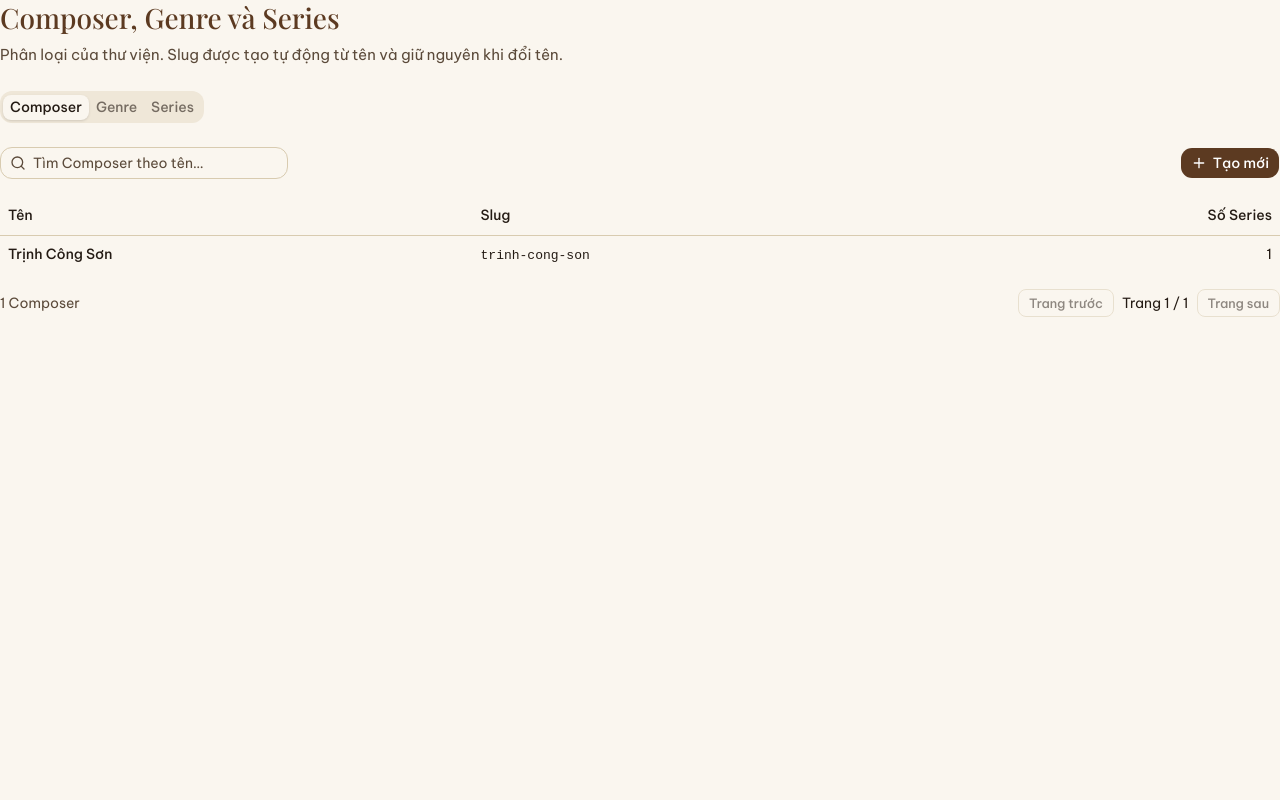
Trang /taxonomy — tab Composer › sửa: PATCH với tên mới
The image size is (1280, 800).
Click the row named "Sửa Composer Trịnh Công Sơn": [60, 254] box [0,235,1279,273]
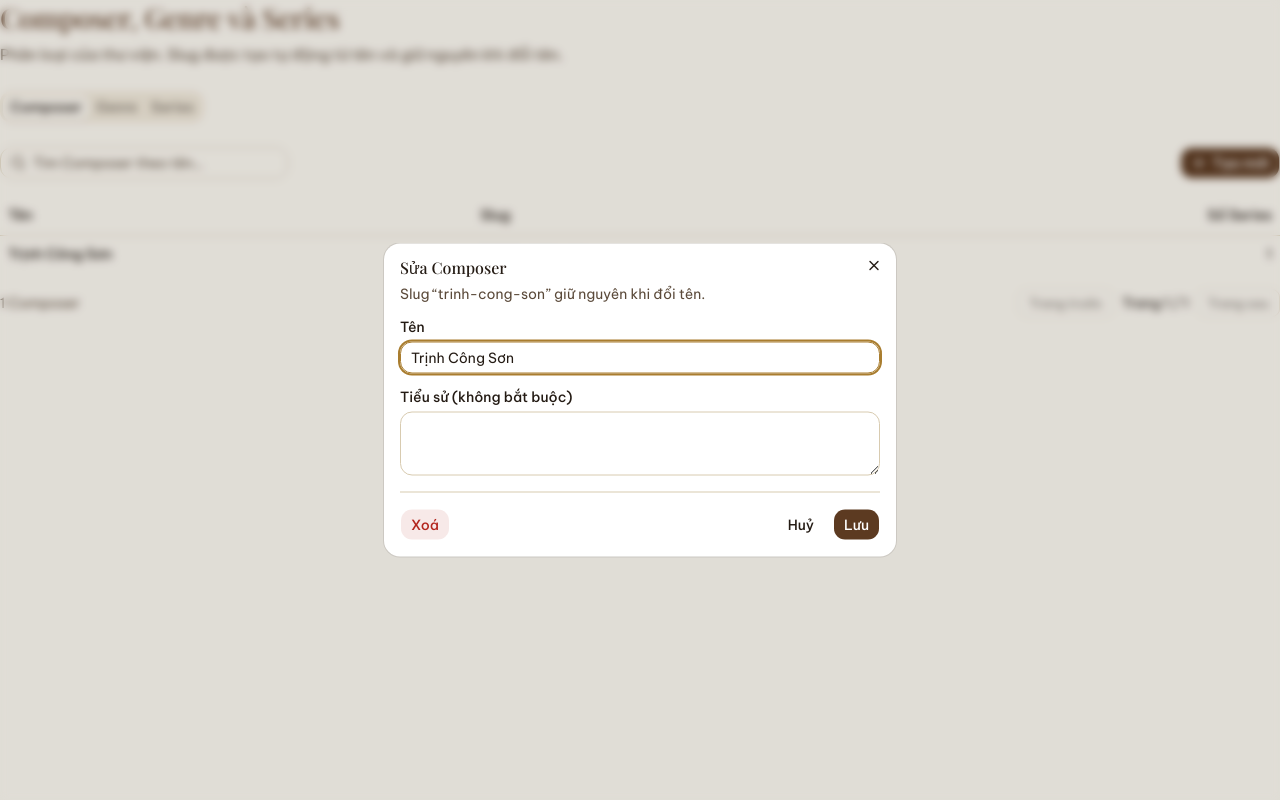
Replace the text in the field labelled "Tên" with "Trịnh Công Sơn (1939–2001)": [640, 358] box [400,342,880,374]
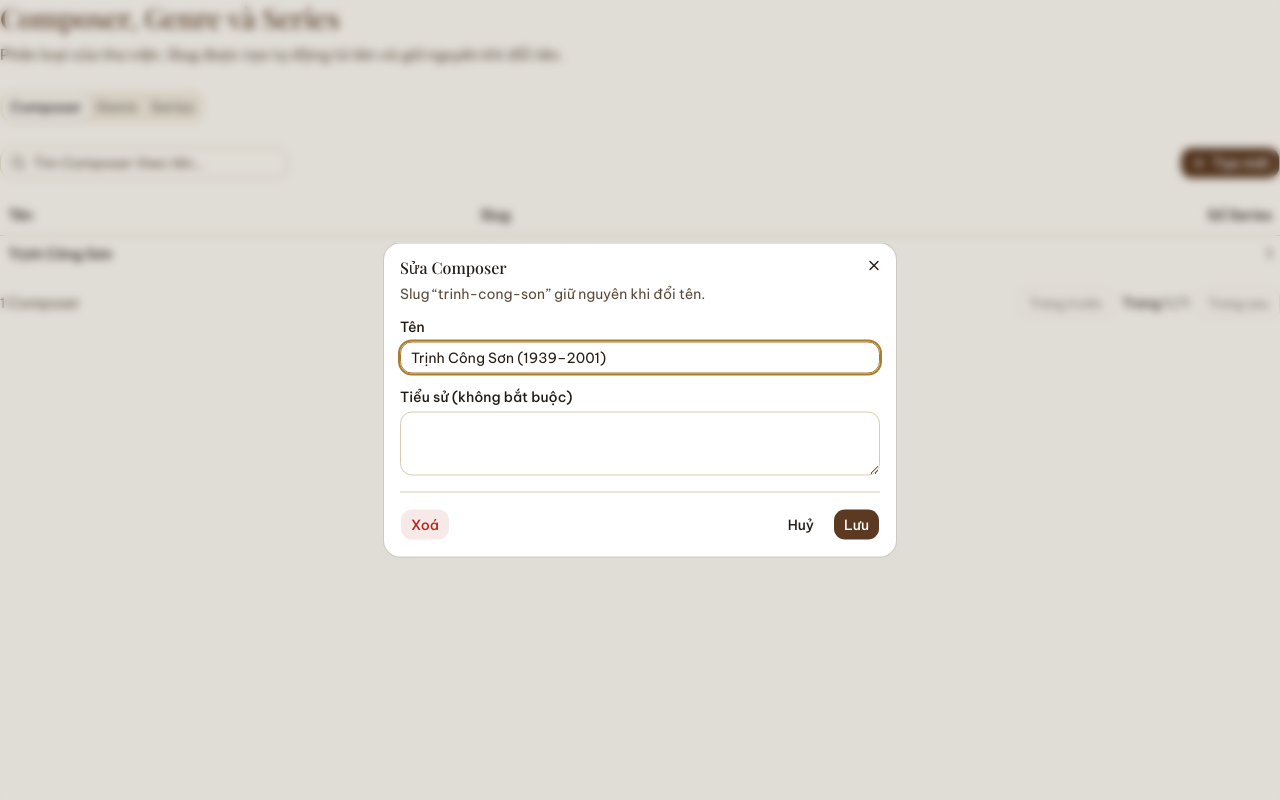
Click the button "Lưu": [856, 524] box [833,508,880,540]
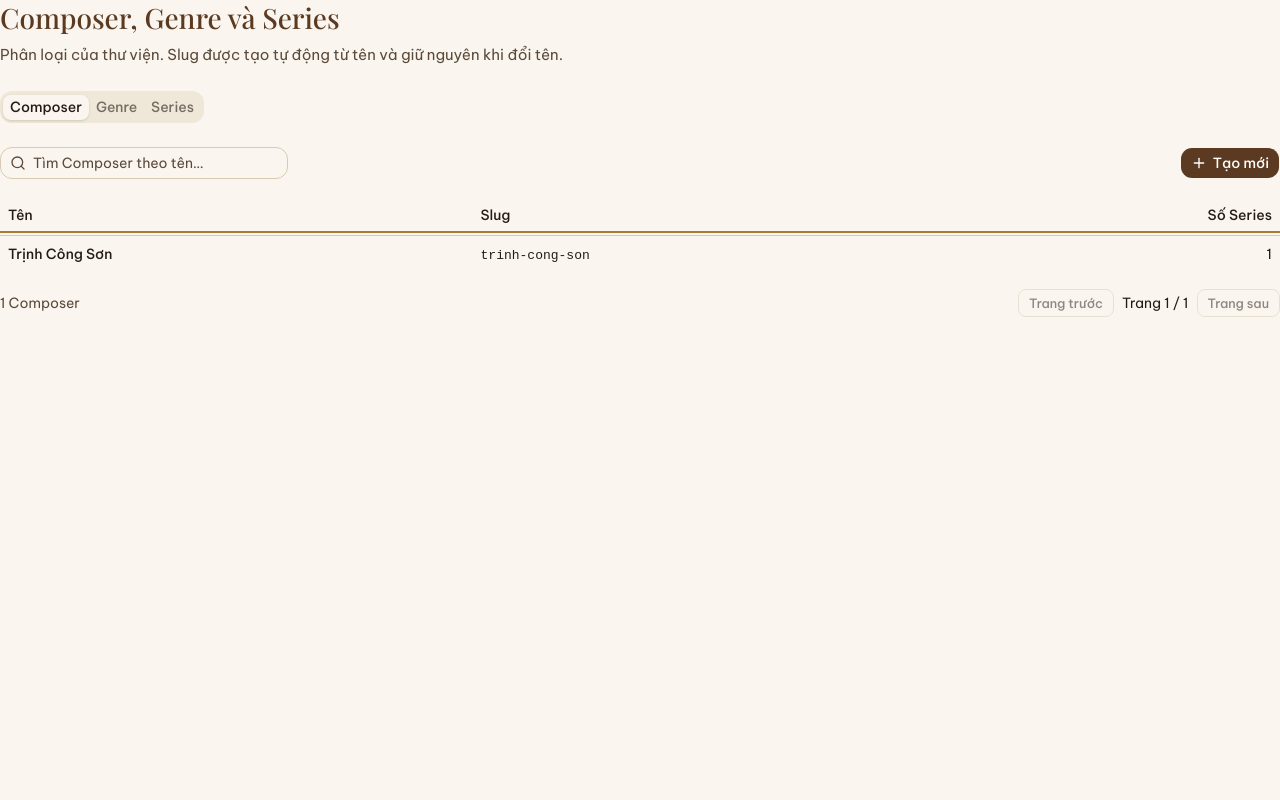
expect the dialog is gone: met
